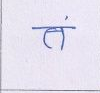anusvara: (65, 17, 68, 20)
